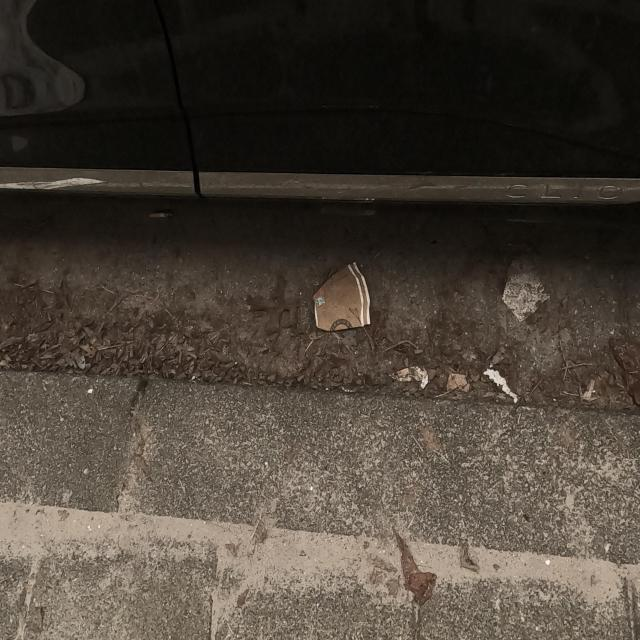Cup: (314, 262, 372, 330)
